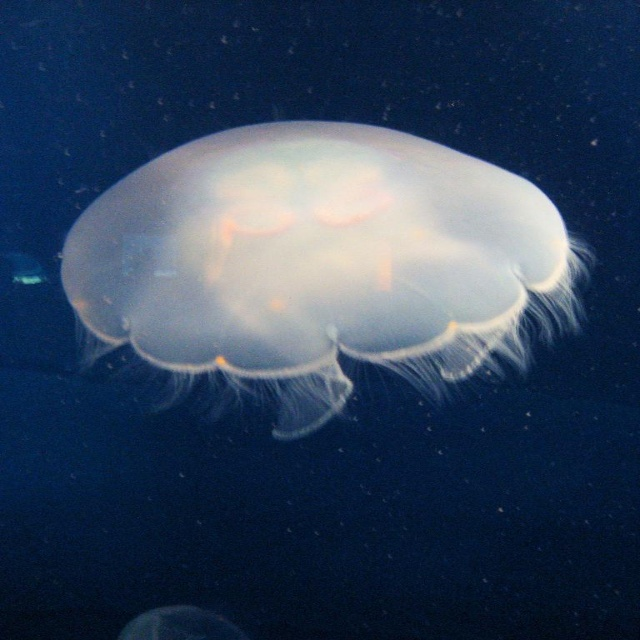Jellyfish: (55, 116, 599, 439)
